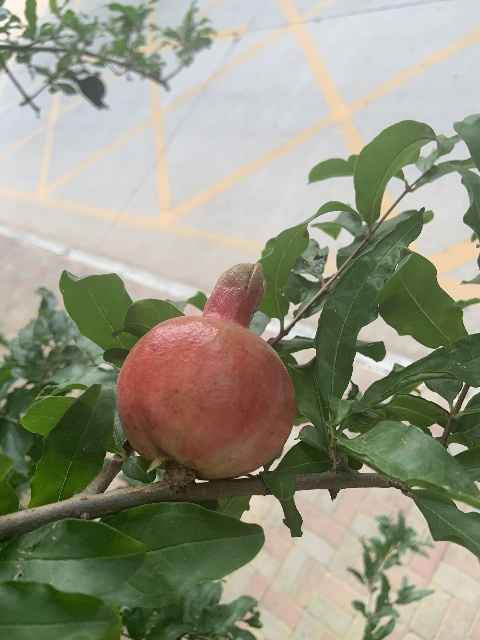ripe: (116, 260, 294, 484)
